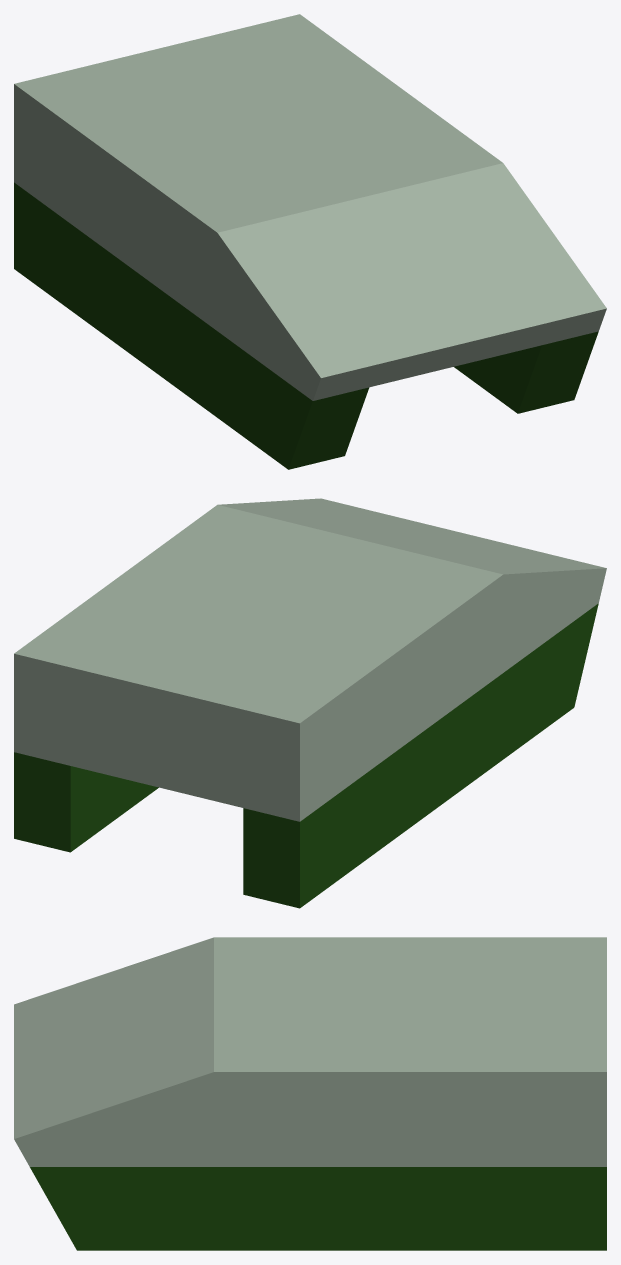
The model's file is tank_1.glb.
3 renders of one model, top to bottom at view 1: azimuth 30°, elevation 25°; view 2: azimuth 150°, elevation 25°; view 3: azimuth 270°, elevation 25°, orthographic. The views are drawn at different scales.
Parts seen in each view (by area): view 1: base; view 2: base; view 3: base.
Boxes of the visible parts, left/top/right/bottom form: base: left=14, top=14, right=606, bottom=469; base: left=14, top=498, right=606, bottom=908; base: left=14, top=937, right=606, bottom=1250.
Bounding box in the file's own units: 0.43 × 0.266 × 0.8.
